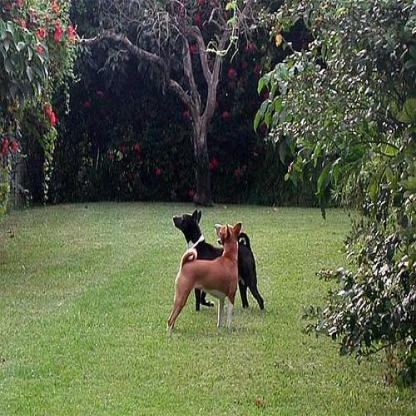basenji: (171, 207, 267, 312), (166, 221, 241, 330)
